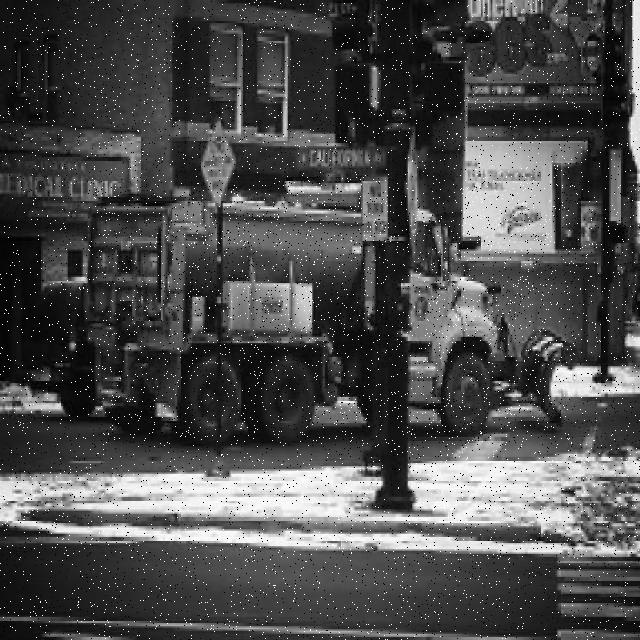Box Truck: (88, 181, 575, 445)
